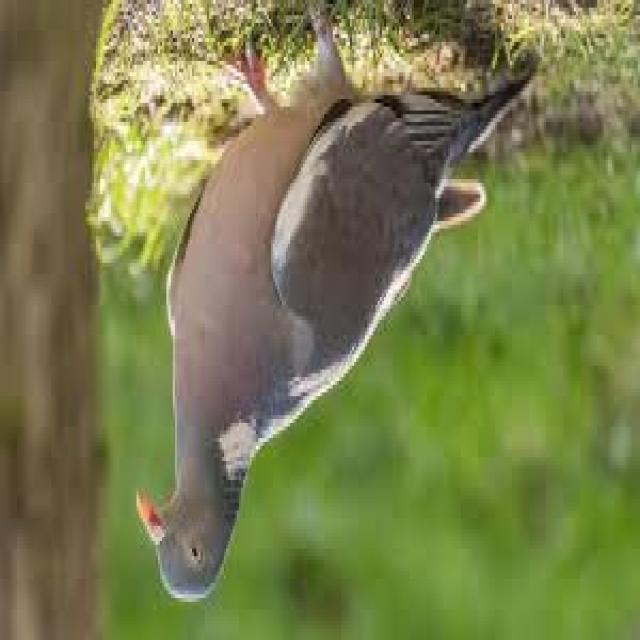pigeon: (126, 7, 538, 610)
